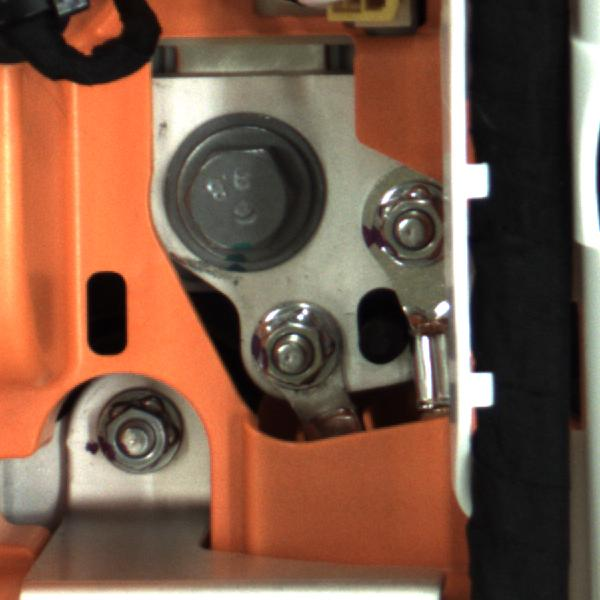nut_b: (169, 135, 323, 273)
screw_s: (246, 303, 339, 400), (93, 396, 179, 479), (369, 189, 448, 268)
